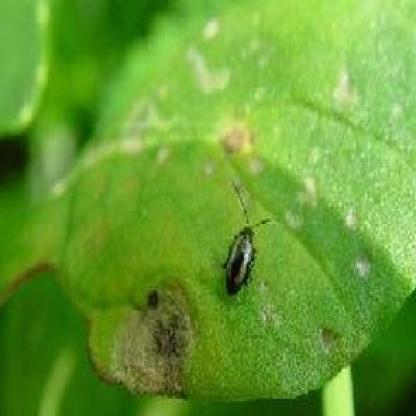beetle: (224, 187, 266, 295)
